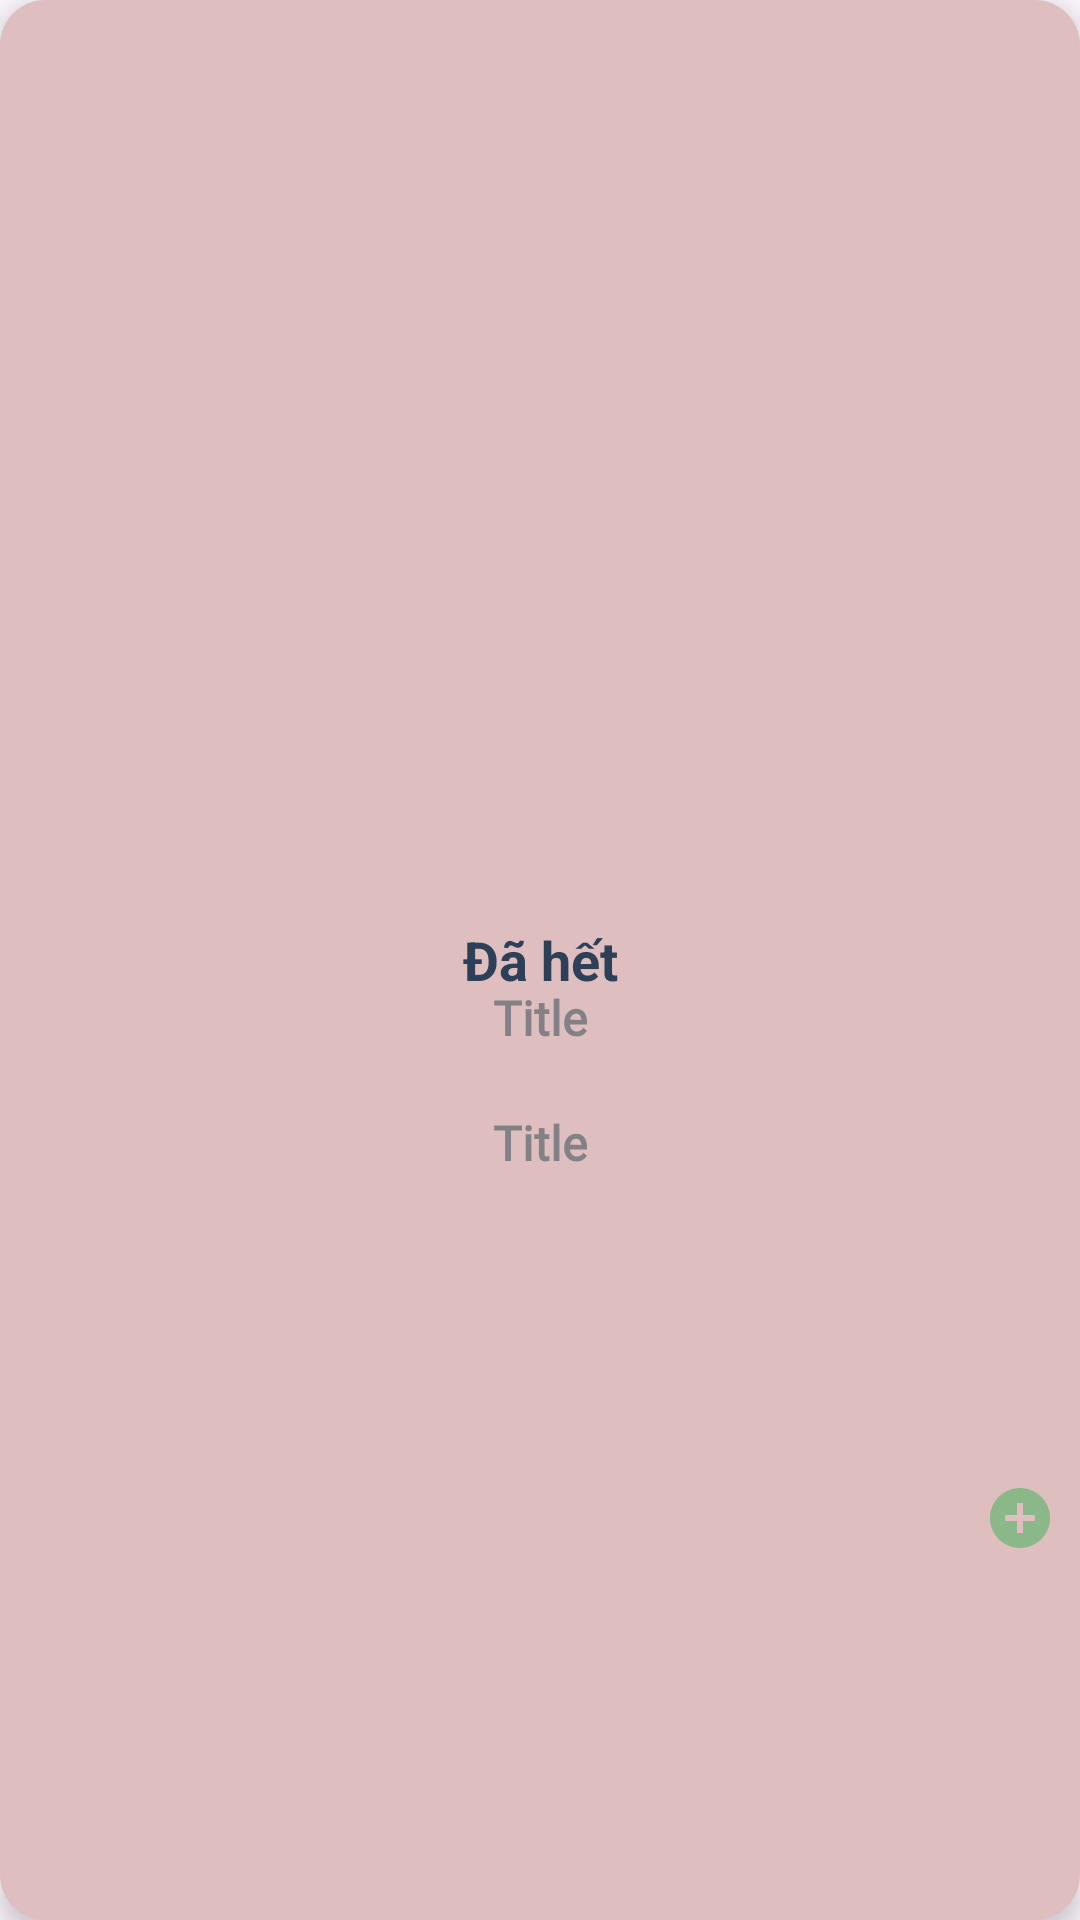

Icons on this 1080 × 1920 Android screen, each with its box as (x1, y1, x2, y2):
add circle: (990, 1488, 1050, 1548)
